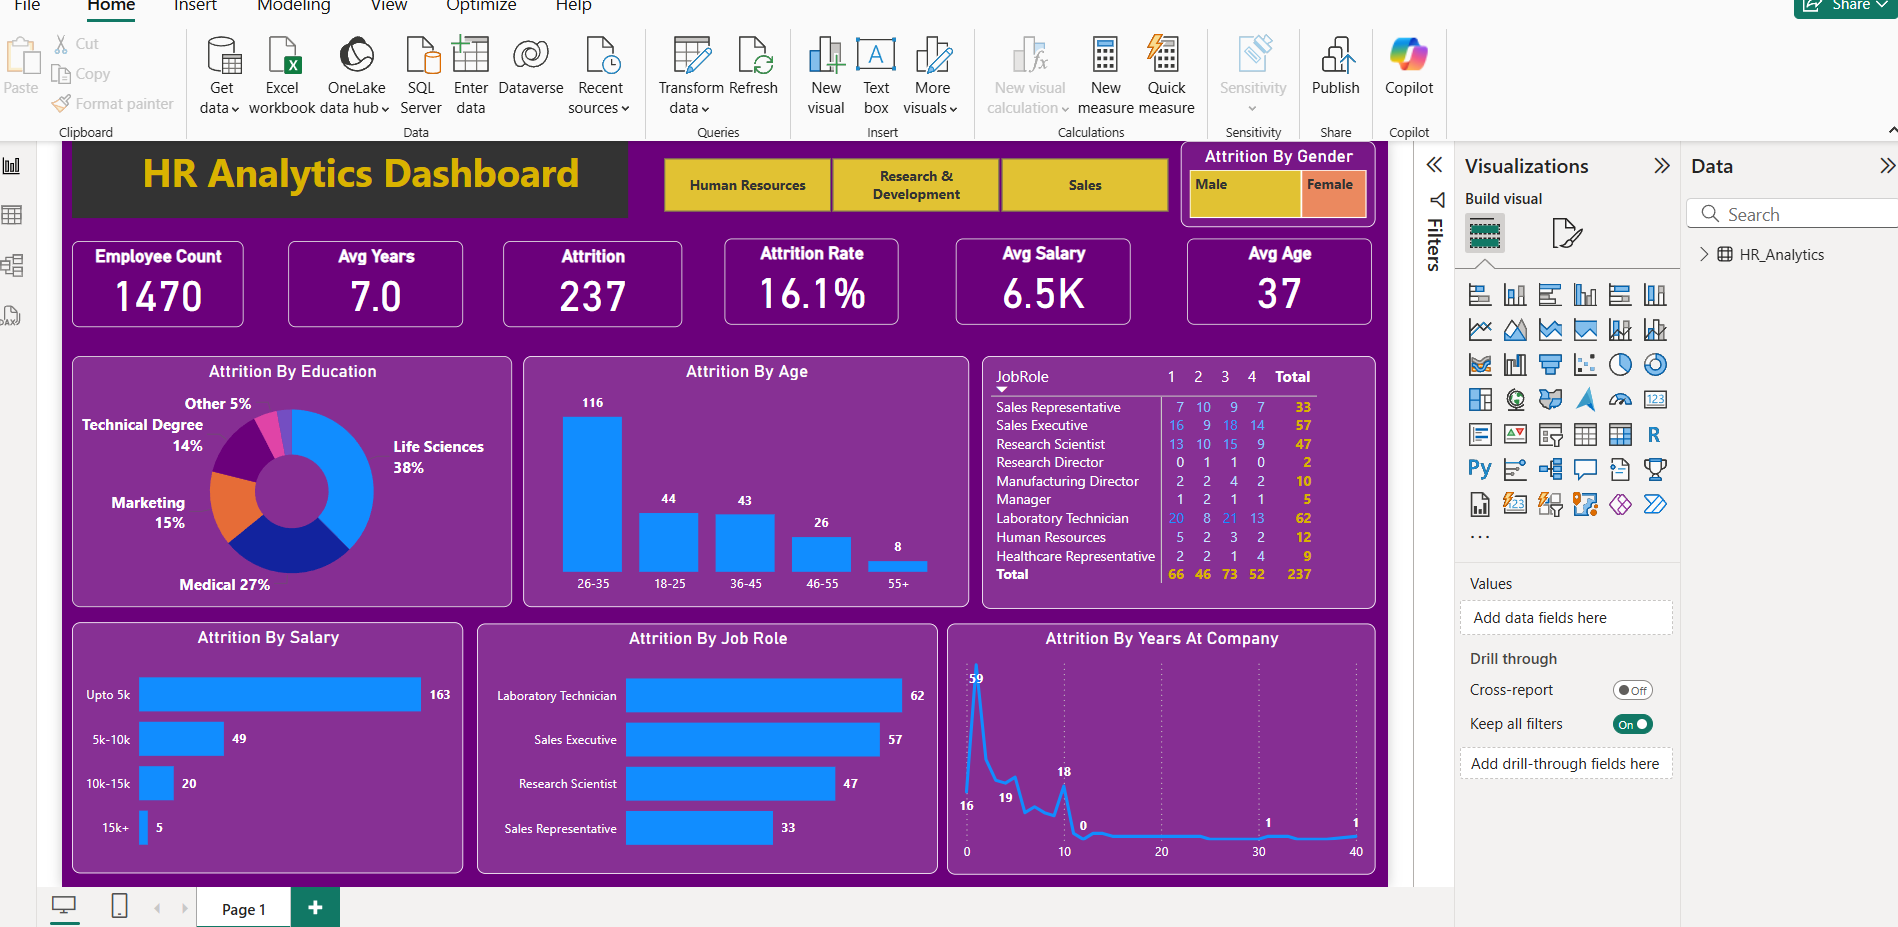

The dashboard page shown, as its layout file describes it:
{"tool":"powerbi","page":{"name":"Page 1","canvas":[1280,720],"ordinal":0},"visuals":[{"type":"card","title":"Employee Count ","fields":{"Values":["CountNonNull(HR_Analytics.EmpID)"]},"box":[9.7,96.5,165.3,83.2],"z":0},{"type":"card","title":"Attrition Rate","fields":{"Values":["HR_Analytics.AttritionRate"]},"box":[639.4,94.1,167.7,83.2],"z":1000},{"type":"card","title":"Avg Age","fields":{"Values":["Avg(HR_Analytics.Age)"]},"box":[1085.8,94.1,178.6,83.2],"z":2000},{"type":"card","title":"Attrition ","fields":{"Values":["Sum(HR_Analytics.AttritionCount)"]},"box":[425.9,96.5,172.5,83.2],"z":3000},{"type":"card","title":"Avg Salary","fields":{"Values":["Avg(HR_Analytics.MonthlyIncome)"]},"box":[862.6,94.1,168.9,83.2],"z":4000},{"type":"card","title":"Avg Years ","fields":{"Values":["Avg(HR_Analytics.YearsAtCompany)"]},"box":[218.4,96.5,168.9,83.2],"z":5000},{"type":"donutChart","title":"Attrition By Education ","fields":{"Category":["HR_Analytics.EducationField"],"Y":["Sum(HR_Analytics.AttritionCount)"]},"box":[9.7,207.5,424.7,242.5],"z":6000},{"type":"columnChart","title":"Attrition By Age","fields":{"Y":["Sum(HR_Analytics.AttritionCount)"],"Category":["HR_Analytics.AgeGroup"]},"box":[445.2,207.5,430.7,242.5],"z":7000},{"type":"pivotTable","fields":{"Rows":["HR_Analytics.JobRole"],"Columns":["HR_Analytics.JobSatisfaction"],"Values":["Sum(HR_Analytics.AttritionCount)"]},"box":[887.9,207.5,380,243.7],"z":8000},{"type":"barChart","title":"Attrition By Salary","fields":{"Category":["HR_Analytics.SalarySlab"],"Y":["Sum(HR_Analytics.AttritionCount)"]},"box":[9.7,464.5,377.6,242.5],"z":9000},{"type":"barChart","title":"Attrition By Job Role","fields":{"Y":["Sum(HR_Analytics.AttritionCount)"],"Category":["HR_Analytics.JobRole"]},"box":[400.5,465.7,445.2,241.3],"z":10000},{"type":"lineChart","title":"Attrition By Years At Company","fields":{"Category":["HR_Analytics.YearsAtCompany"],"Y":["Sum(HR_Analytics.AttritionCount)"]},"box":[854.2,465.7,413.8,242.5],"z":11000},{"type":"treemap","title":"Attrition By Gender","fields":{"Group":["HR_Analytics.Gender"],"Values":["Sum(HR_Analytics.AttritionCount)"]},"box":[1079.8,0,188.2,83.2],"z":12000},{"type":"textbox","box":[9.7,0,536.9,74.8],"z":13000},{"type":"slicer","fields":{"Values":["HR_Analytics.Department"]},"box":[555,9.7,536.9,65.1],"z":14000}]}

Visuals, with their boxes on the page's 1280x720 design canvas (x1, y1, x2, y2). These are canvas units, not pixel positions in the 1898x927 screenshot, which may show the page scaled, cropped or inside an application window:
"Employee Count " card: 10/96/175/180
"Attrition Rate" card: 639/94/807/177
"Avg Age" card: 1086/94/1264/177
"Attrition " card: 426/96/598/180
"Avg Salary" card: 863/94/1032/177
"Avg Years " card: 218/96/387/180
"Attrition By Education " donutChart: 10/208/434/450
"Attrition By Age" columnChart: 445/208/876/450
pivotTable - HR_Analytics.JobRole x HR_Analytics.JobSatisfaction: 888/208/1268/451
"Attrition By Salary" barChart: 10/464/387/707
"Attrition By Job Role" barChart: 400/466/846/707
"Attrition By Years At Company" lineChart: 854/466/1268/708
"Attrition By Gender" treemap: 1080/0/1268/83
textbox: 10/0/547/75
slicer - HR_Analytics.Department: 555/10/1092/75
